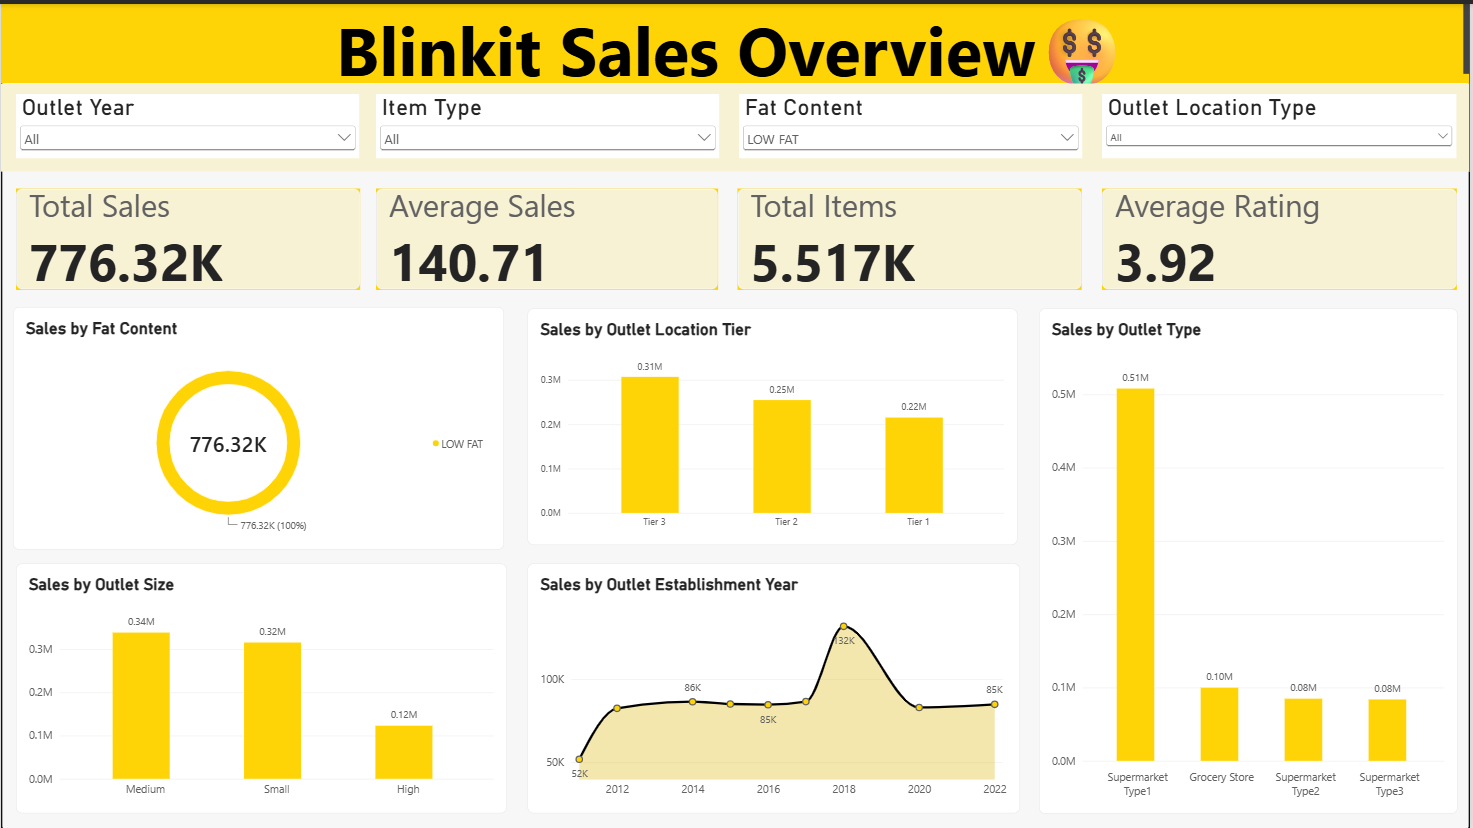

Layout of this report page (visuals, bound fields, positions):
{"tool":"powerbi","page":{"name":"Sales Overview","canvas":[1920,1080],"ordinal":0},"visuals":[{"type":"textbox","box":[0,0,1920,103.2],"z":0},{"type":"shape","box":[0,103.2,1920,115.2],"z":1000},{"type":"slicer","fields":{"Values":["Blinkit Grocery Data.Outlet Establishment Year"]},"box":[19.2,117.6,448.8,84],"z":2000},{"type":"slicer","fields":{"Values":["Blinkit Grocery Data.Item Type"]},"box":[489.6,117.6,448.8,84],"z":3000},{"type":"slicer","fields":{"Values":["Blinkit Grocery Data.Fat Content"]},"box":[964.8,117.6,448.8,84],"z":4000},{"type":"slicer","fields":{"Values":["Blinkit Grocery Data.Outlet Location Type"]},"box":[1440,117.6,463.2,84],"z":5000},{"type":"cardVisual","fields":{"Data":["Sum(Blinkit Grocery Data.Sales)"]},"box":[18.9,241.6,450,132.6],"z":5500},{"type":"cardVisual","fields":{"Data":["Avg(Blinkit Grocery Data.Sales)"]},"box":[490.3,241.6,447.6,132.6],"z":5501},{"type":"cardVisual","fields":{"Data":["CountNonNull(Blinkit Grocery Data.Item Identifier)"]},"box":[964,241.6,450,132.6],"z":5502},{"type":"cardVisual","fields":{"Data":["Avg(Blinkit Grocery Data.Rating)"]},"box":[1440,241.6,464.2,132.6],"z":5503},{"type":"donutChart","title":"Sales by Fat Content","fields":{"Category":["Blinkit Grocery Data.Fat Content"],"Y":["Sum(Blinkit Grocery Data.Sales)"]},"box":[16.6,395.5,641.9,317.4],"z":5504},{"type":"areaChart","title":"Sales by Outlet Establishment Year","fields":{"Category":["Blinkit Grocery Data.Outlet Establishment Year"],"Y":["Sum(Blinkit Grocery Data.Sales)"]},"box":[689.2,731.9,644.2,326.8],"z":5505},{"type":"columnChart","title":"Sales by Outlet Size","fields":{"Category":["Blinkit Grocery Data.Outlet Size"],"Y":["Sum(Blinkit Grocery Data.Sales)"]},"box":[18.9,731.9,641.9,326.8],"z":5506},{"type":"columnChart","title":"Sales by Outlet Location Tier","fields":{"Category":["Blinkit Grocery Data.Outlet Location Type"],"Y":["Sum(Blinkit Grocery Data.Sales)"]},"box":[689.2,397.9,640.8,309.6],"z":5507},{"type":"columnChart","title":"Sales by Outlet Type","fields":{"Category":["Blinkit Grocery Data.Outlet Type"],"Y":["Sum(Blinkit Grocery Data.Sales)"]},"box":[1357.1,397.9,547.1,660.8],"z":5508}]}

Visuals, with their boxes in screenshot pixels (x1, y1, x2, y2), scaled from the page's 1920x1080 canvas onto the 1473x828 screenshot:
textbox: <box>0,0,1472,79</box>
shape: <box>0,79,1472,167</box>
slicer - Blinkit Grocery Data.Outlet Establishment Year: <box>15,90,359,155</box>
slicer - Blinkit Grocery Data.Item Type: <box>376,90,720,155</box>
slicer - Blinkit Grocery Data.Fat Content: <box>740,90,1084,155</box>
slicer - Blinkit Grocery Data.Outlet Location Type: <box>1105,90,1460,155</box>
cardVisual - Sum(Blinkit Grocery Data.Sales): <box>14,185,360,287</box>
cardVisual - Avg(Blinkit Grocery Data.Sales): <box>376,185,720,287</box>
cardVisual - CountNonNull(Blinkit Grocery Data.Item Identifier): <box>740,185,1085,287</box>
cardVisual - Avg(Blinkit Grocery Data.Rating): <box>1105,185,1461,287</box>
"Sales by Fat Content" donutChart: <box>13,303,505,547</box>
"Sales by Outlet Establishment Year" areaChart: <box>529,561,1023,812</box>
"Sales by Outlet Size" columnChart: <box>14,561,507,812</box>
"Sales by Outlet Location Tier" columnChart: <box>529,305,1020,542</box>
"Sales by Outlet Type" columnChart: <box>1041,305,1461,812</box>
